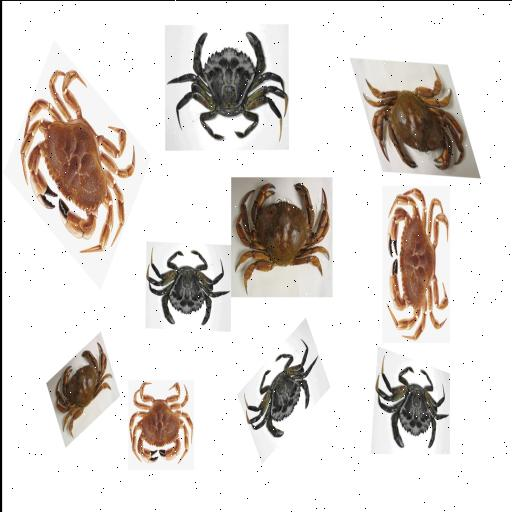green crab: (164, 23, 292, 154), (242, 324, 322, 454), (366, 356, 457, 461), (143, 243, 231, 334)
joe crab: (19, 61, 139, 283), (377, 186, 448, 334), (128, 384, 196, 464)
rock crab: (345, 58, 476, 180), (231, 176, 331, 296), (39, 334, 119, 440)
